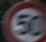Speed Limit -50-: (0, 0, 45, 41)
